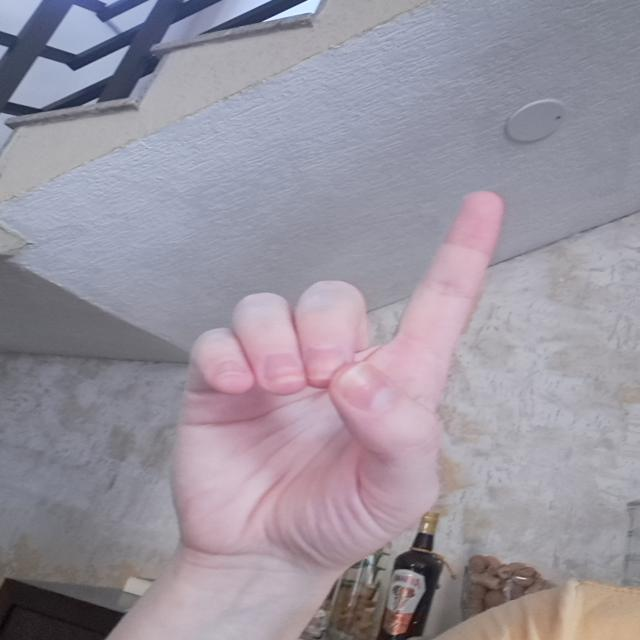D2: (144, 183, 507, 586)
